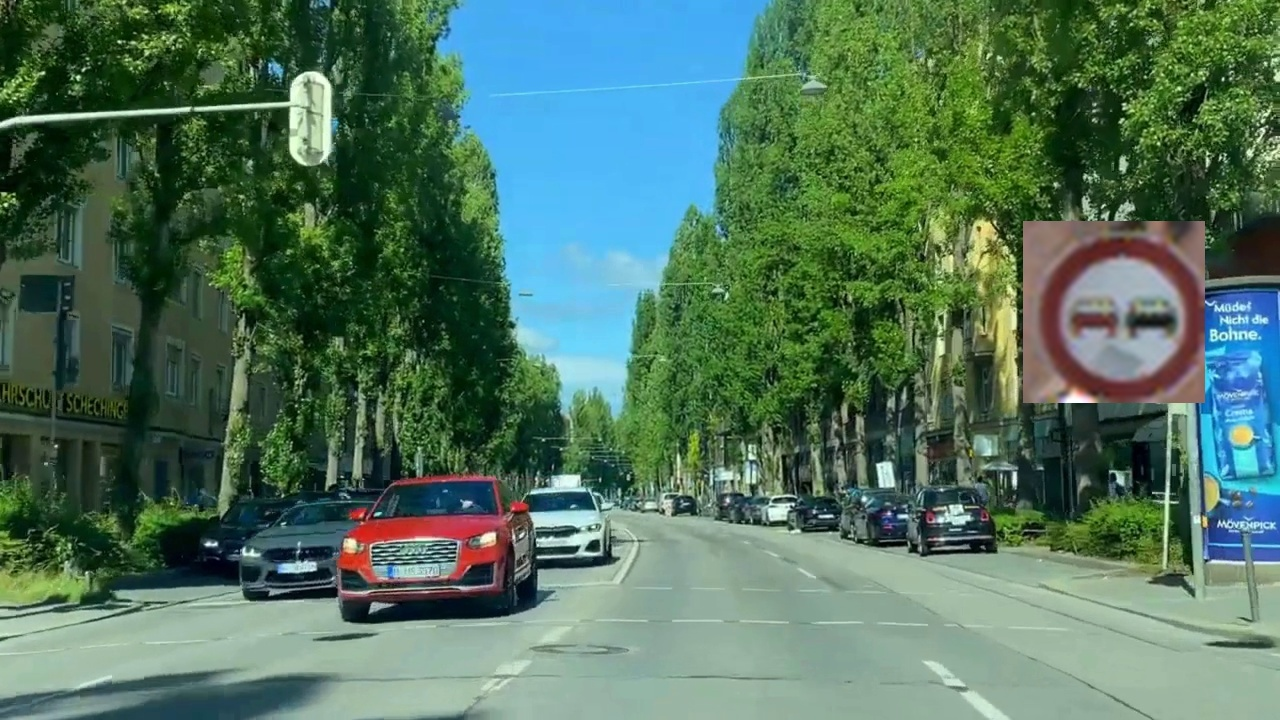No passing: (1023, 221, 1205, 403)
